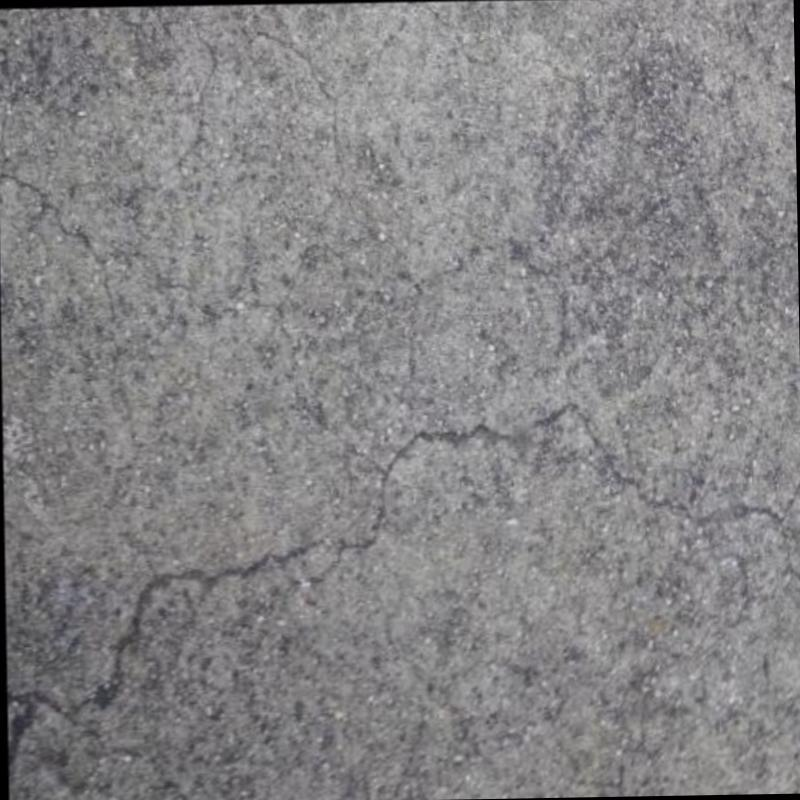pothole: (5, 394, 800, 785)
